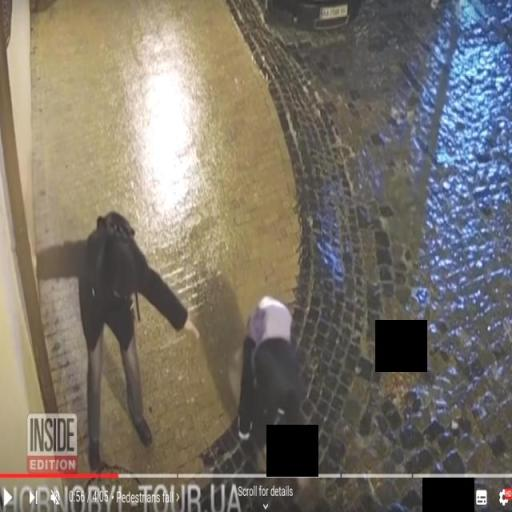Fall: (238, 290, 311, 489)
